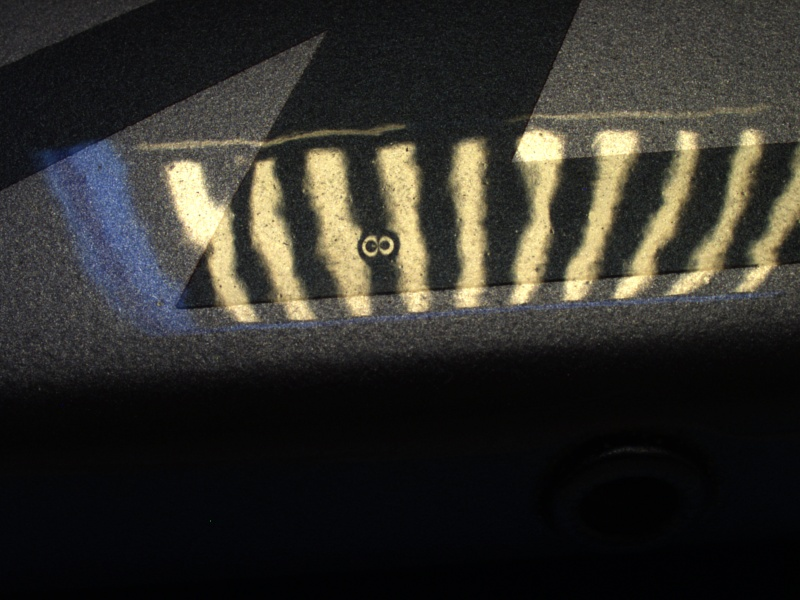bad: (351, 222, 407, 272)
